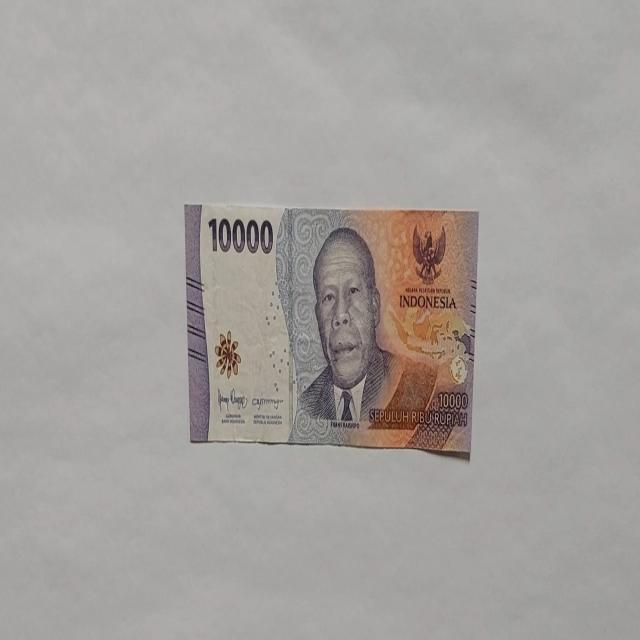sepuluh ribu rupiah: (184, 201, 478, 456)
